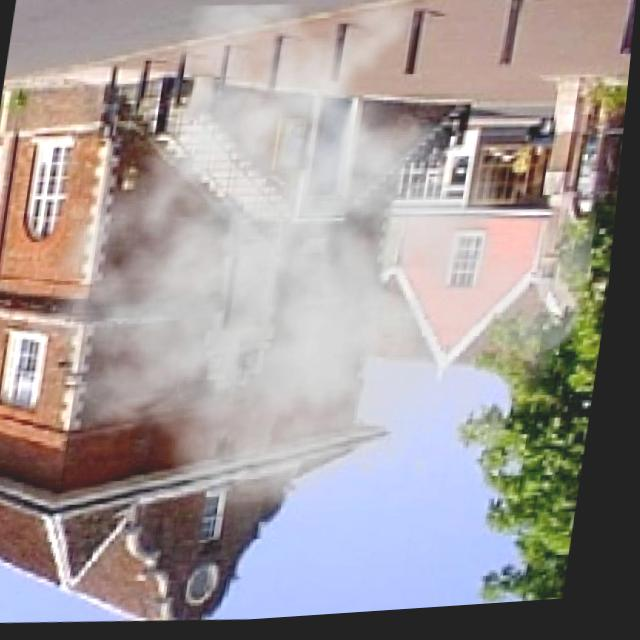Smoke: (4, 9, 635, 564)
